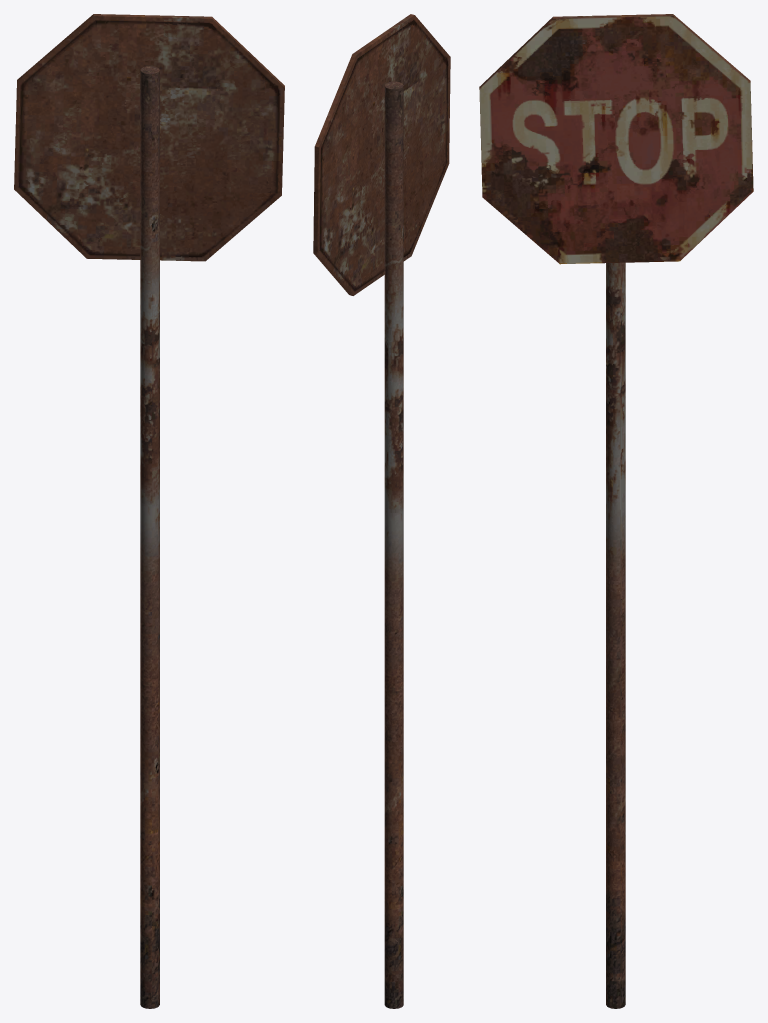
Rendered from Roadsign1_LOD1.fbx.
3 views of the same model, side by side, from view 1: azimuth 90°, elevation 25°; view 2: azimuth 150°, elevation 25°; view 3: azimuth 270°, elevation 25° (orthographic). The views are drawn at different scales.
Parts seen in each view (by area): view 1: Roadsign1_LOD1; view 2: Roadsign1_LOD1; view 3: Roadsign1_LOD1.
Boxes of the visible parts, bbox=[...] form: Roadsign1_LOD1: bbox=[14, 14, 284, 1008]; Roadsign1_LOD1: bbox=[313, 14, 450, 1008]; Roadsign1_LOD1: bbox=[479, 14, 753, 1008].
Bounding box in the file's own units: 0.1069 × 4.45 × 1.11.
1 material, 1 textured.
